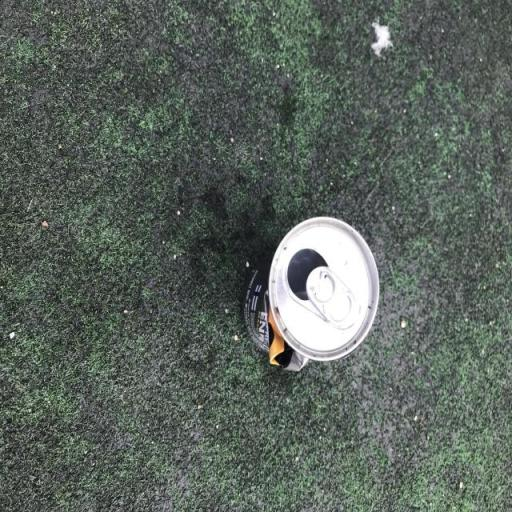metal: (229, 194, 387, 390)
